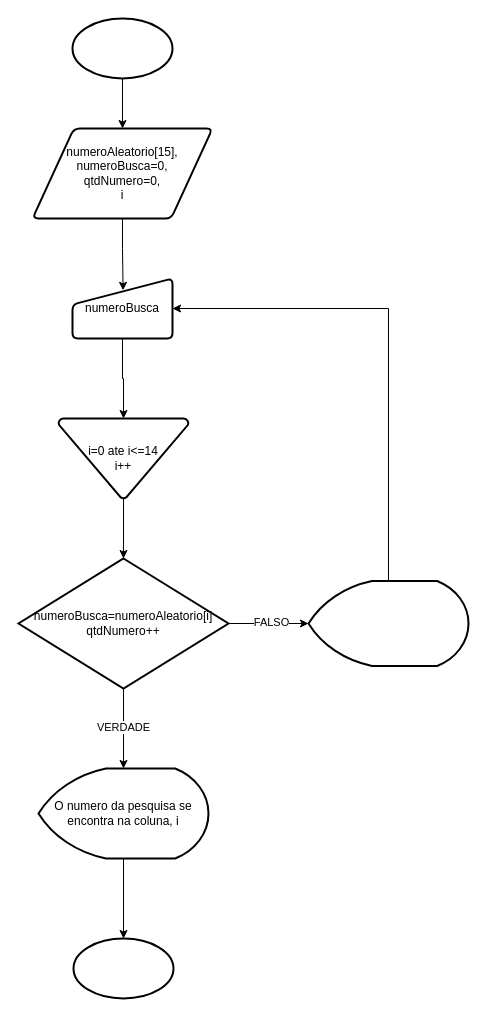
The diagram is 486 pixels wide and 1016 high, and some of its shapes have lost their labels. The shapes that lost their labels are listed below. From the top down, each one's centre as x and y in pixels, then its label:
[122,48]: inicio
[388,623]: Numero digitado nao se encontra nessa matriz! digite de novo.
[123,968]: fim
